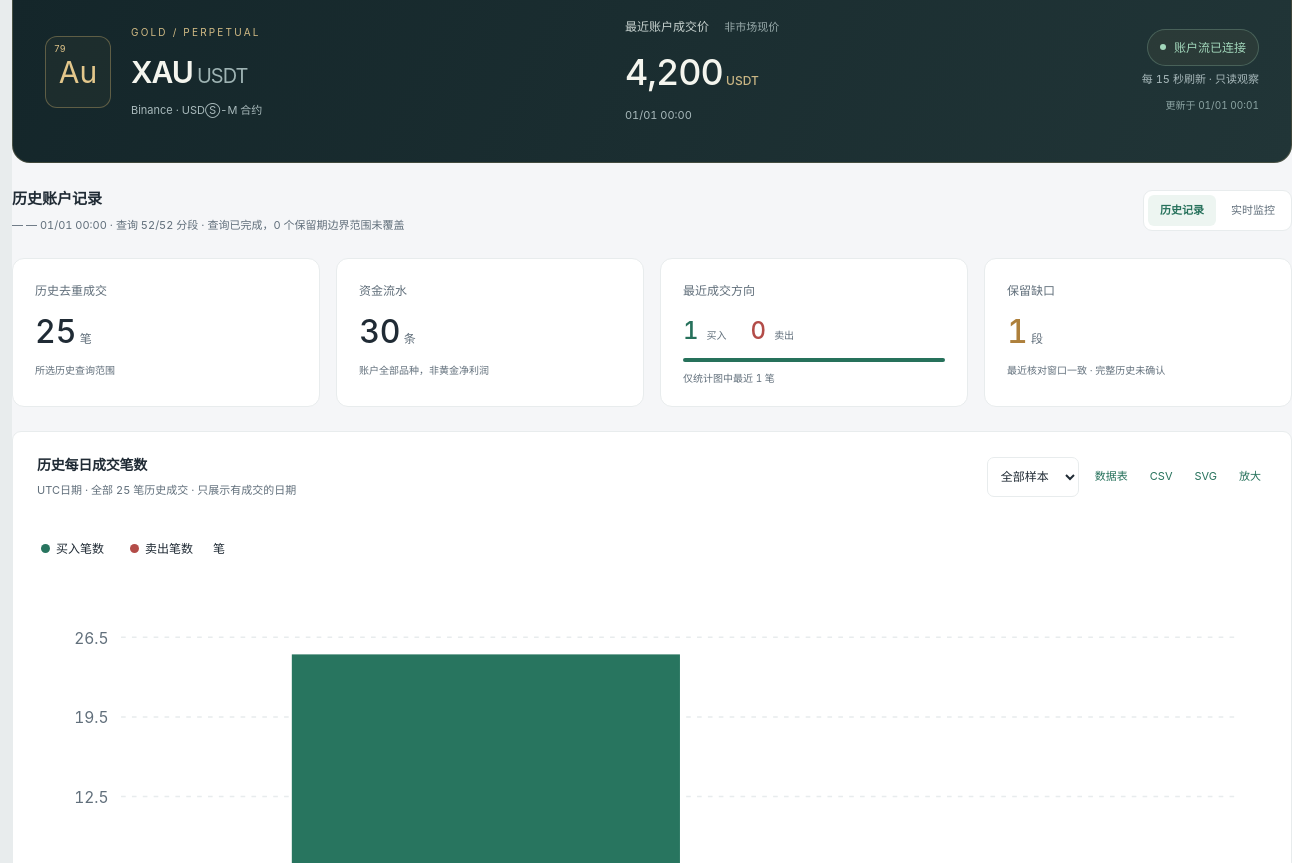
keeps imported history separate from live trades when changing sources
This screenshot has width=1292, height=863.
Check: the text "历史去重成交" is shown, box 35,283 -> 107,298
Click the button "实时监控". click: (1253, 210)
box: 1219,195 -> 1287,226
(page scrolled)
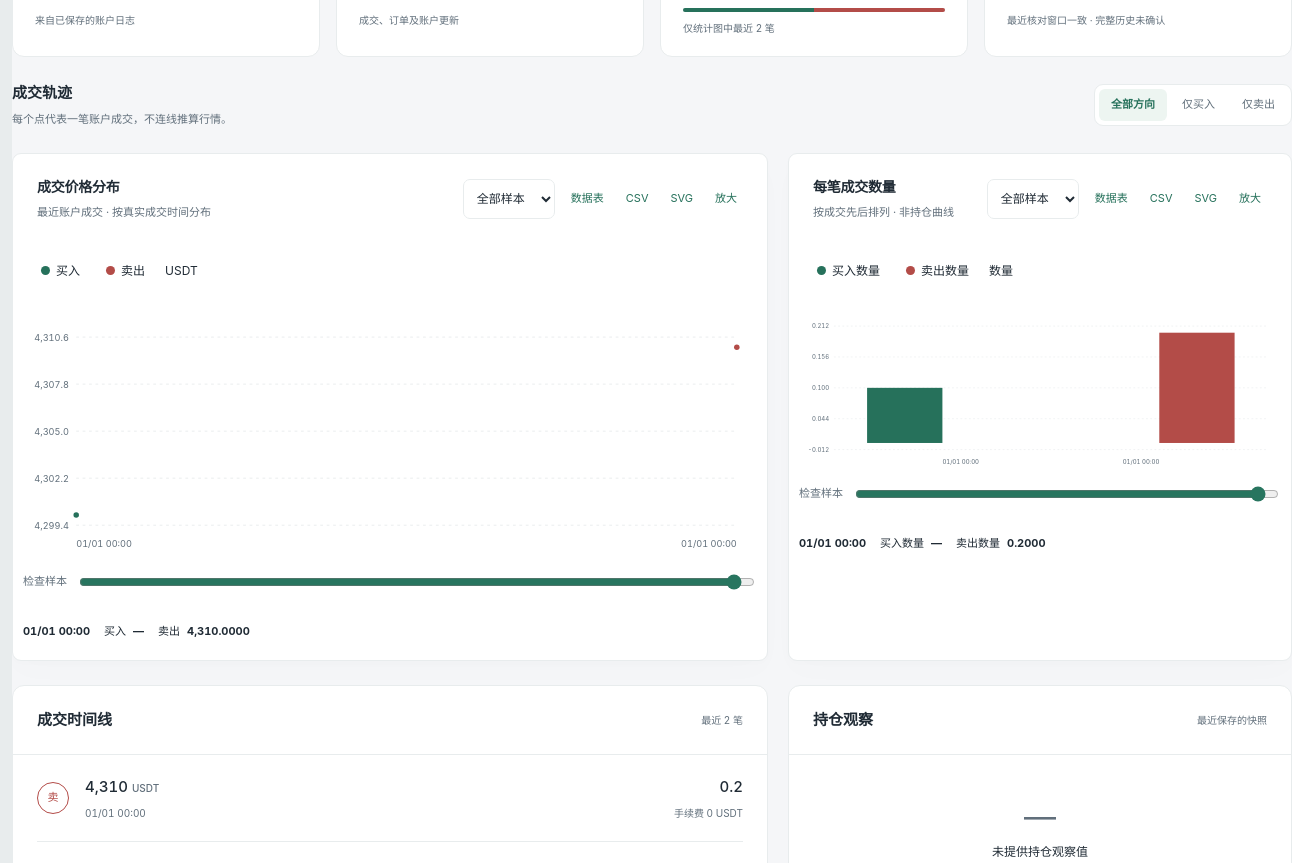
Check: the picture named "成交价格分布，2个样本" is shown, box 23,305 -> 757,560
Check: the heading "历史每日成交笔数" is gone
